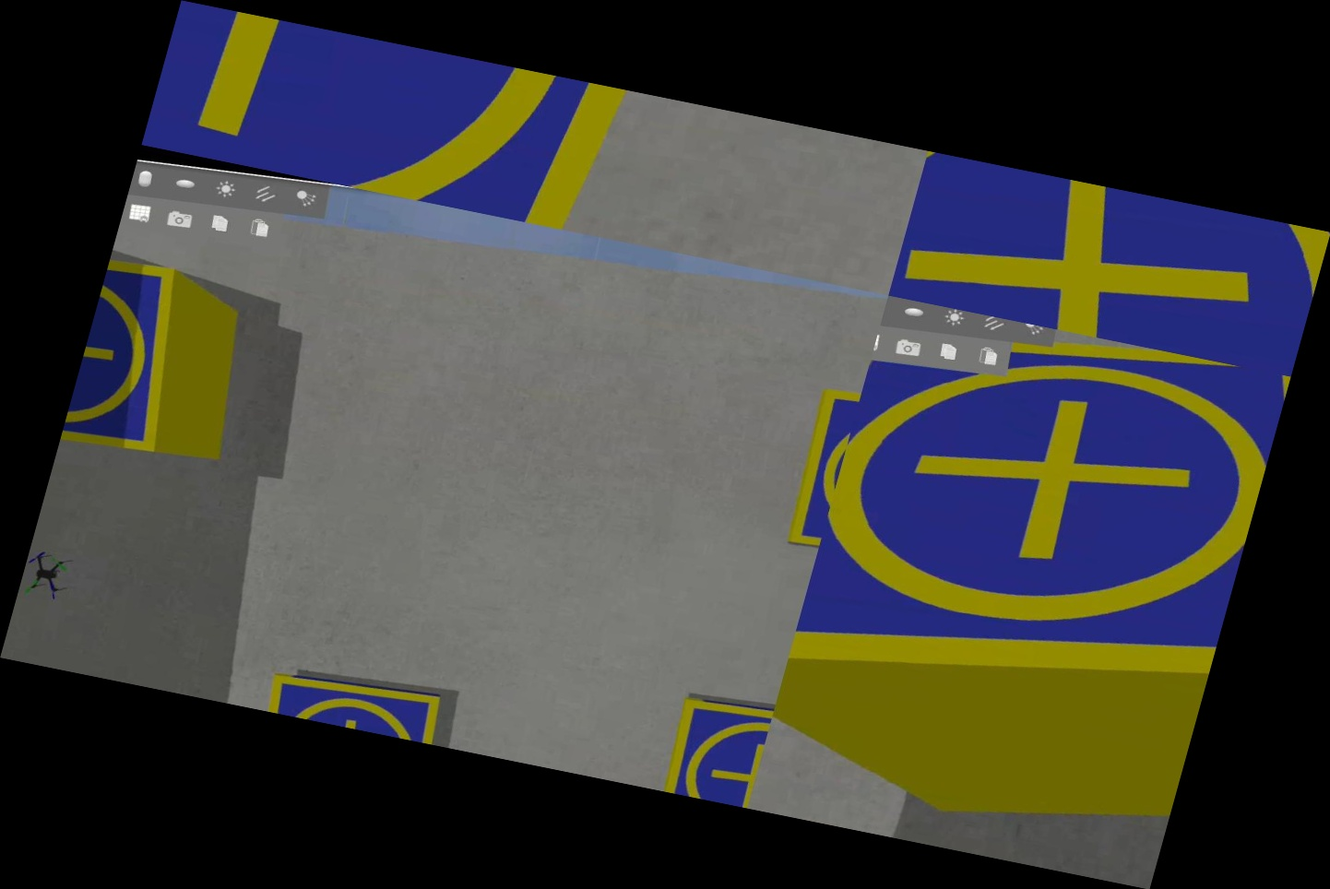small_base: (778, 295, 1289, 774), (141, 0, 752, 260), (888, 151, 1330, 376), (55, 249, 214, 478), (772, 368, 865, 551), (262, 660, 457, 746), (649, 682, 776, 808)
